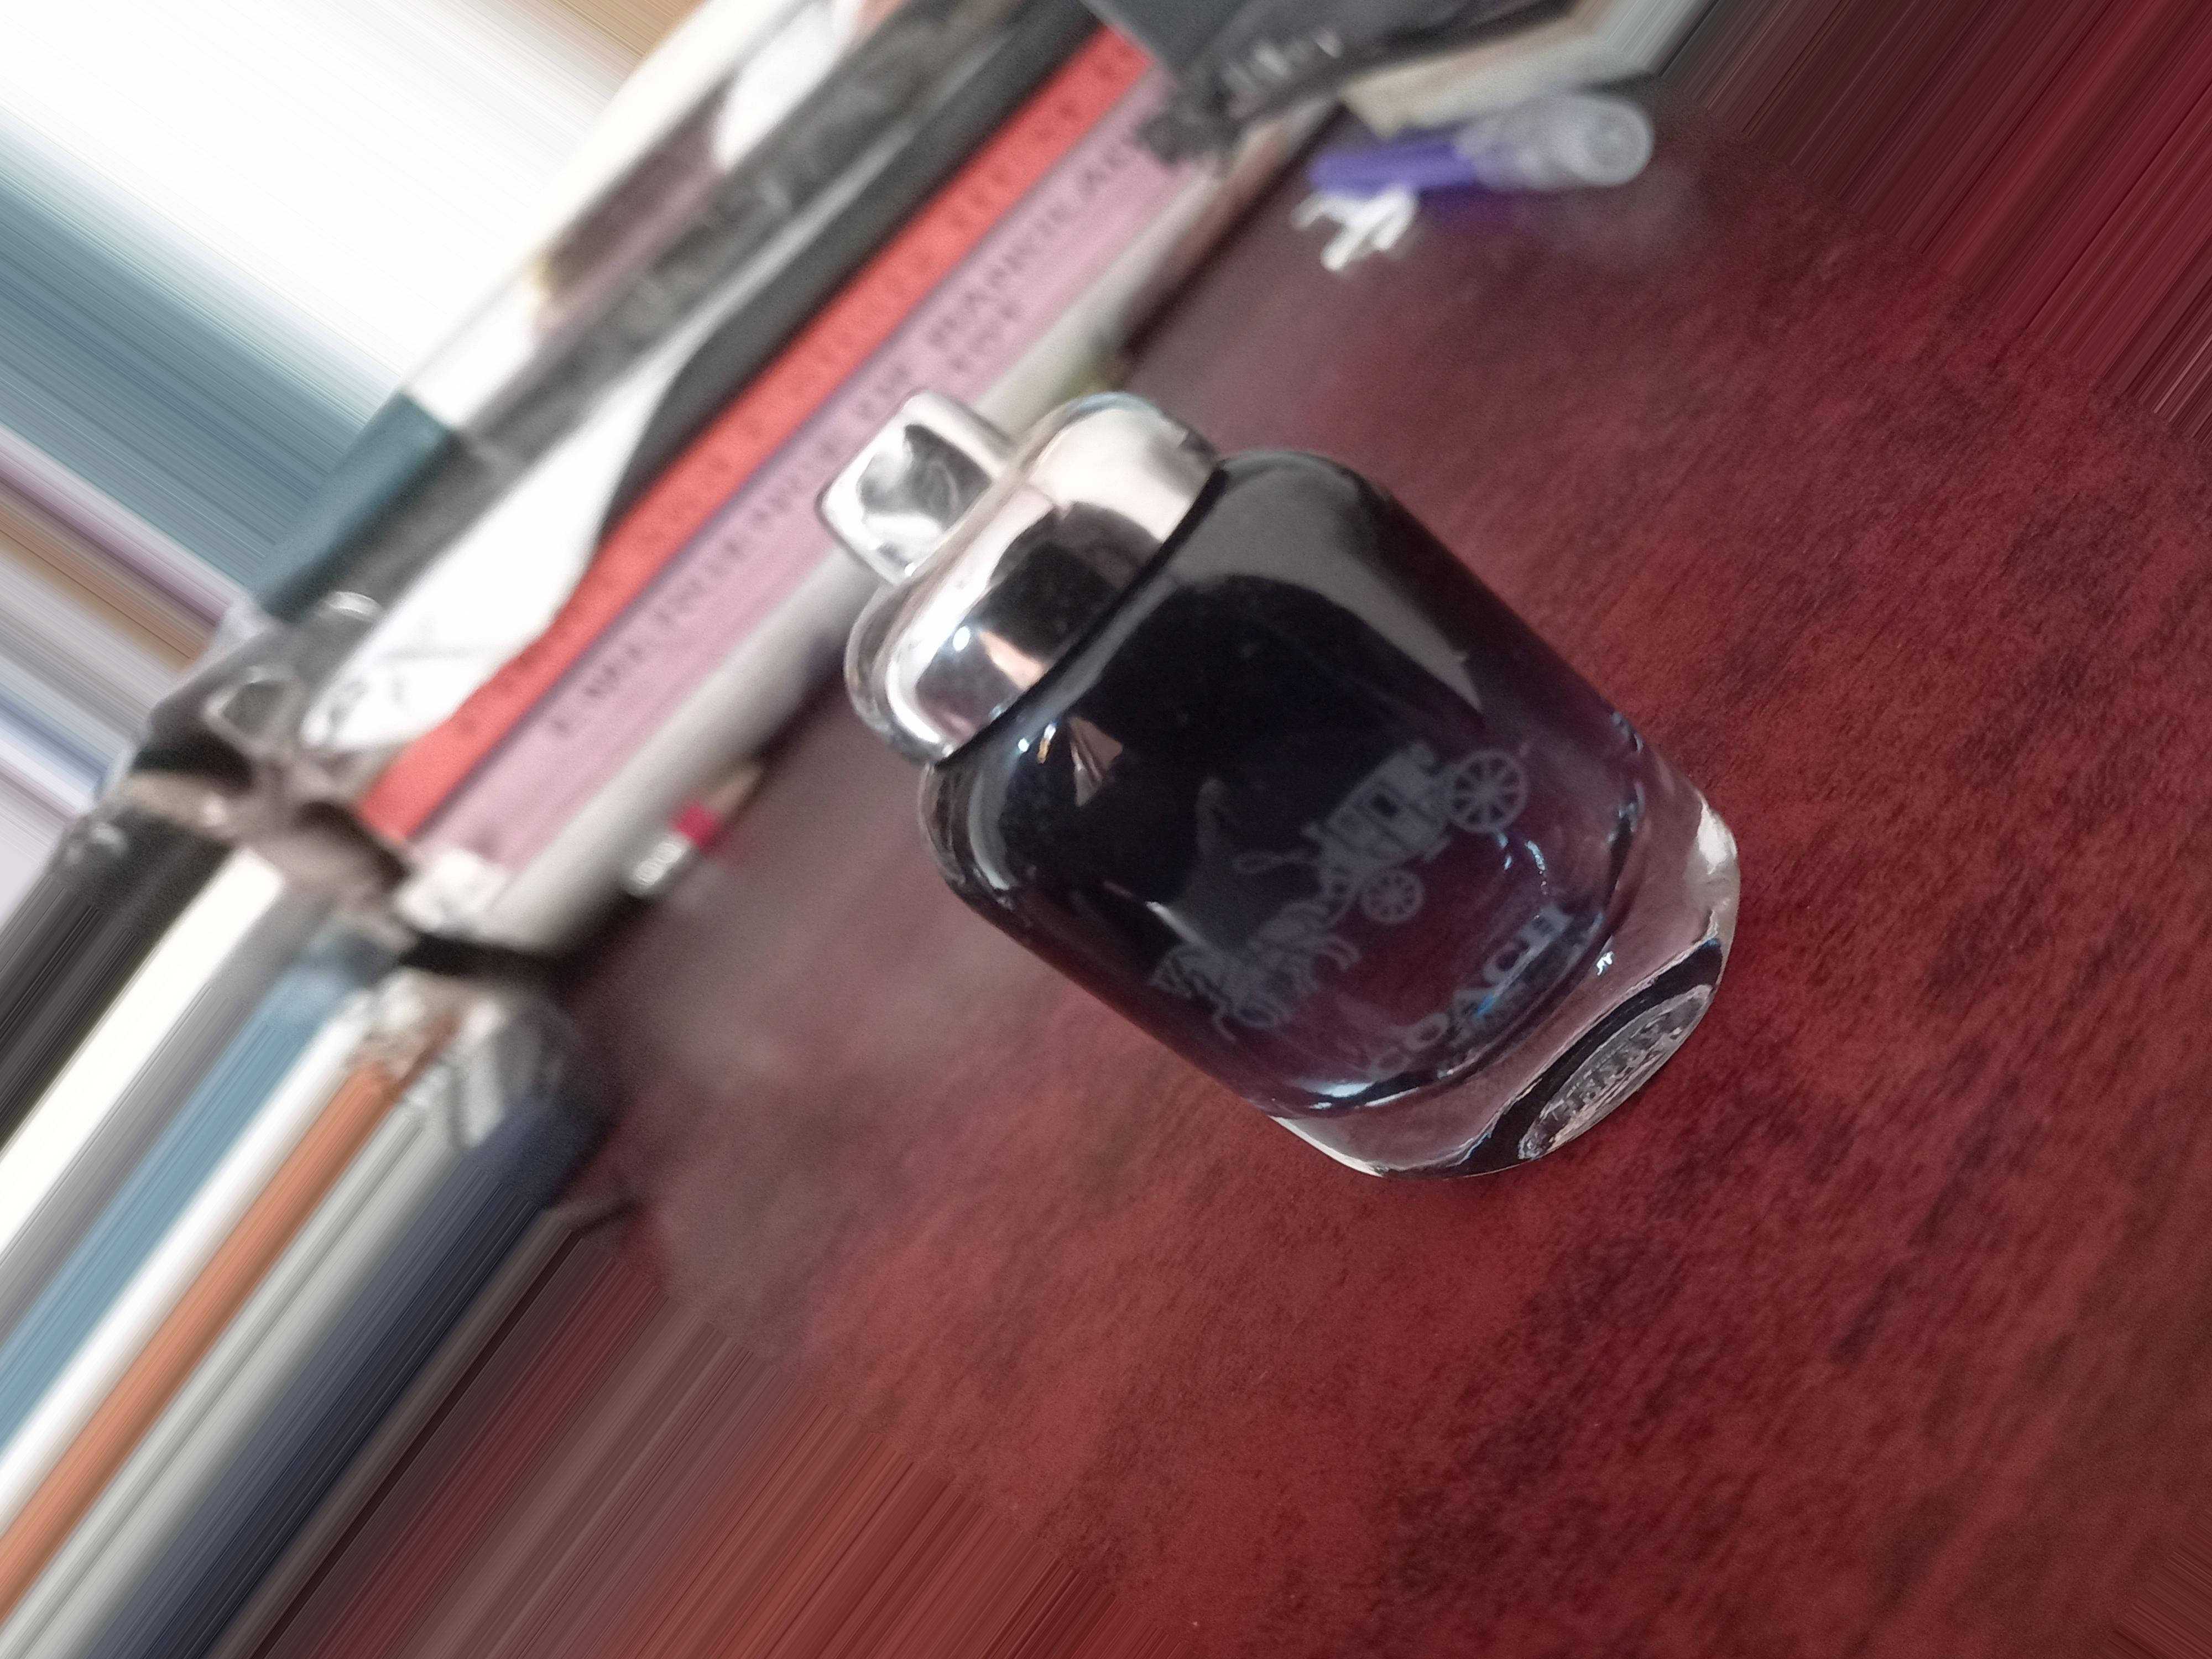perfume: (810, 303, 1743, 1241)
